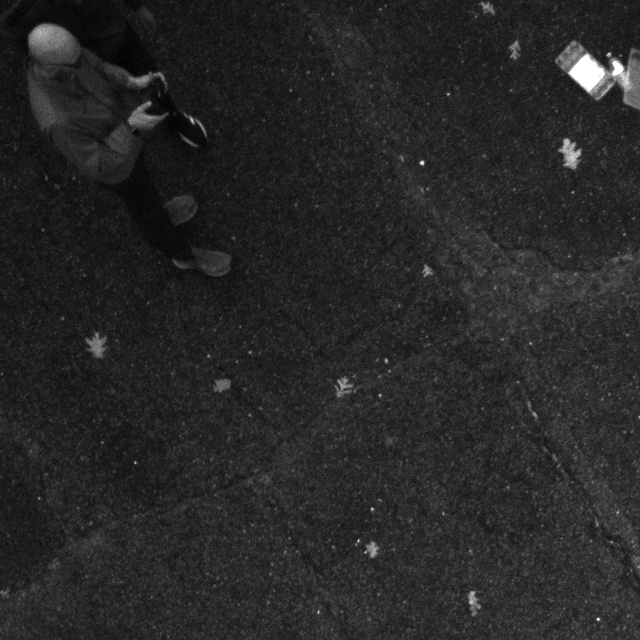container: (557, 41, 606, 103)
